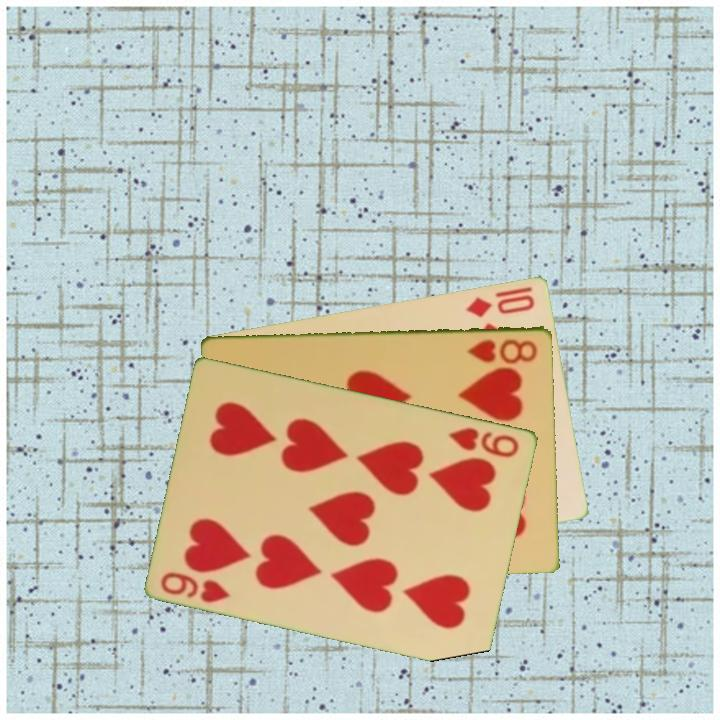10d: (463, 290, 538, 320)
8h: (463, 335, 541, 365)
9h: (157, 568, 234, 606), (445, 423, 522, 460)
